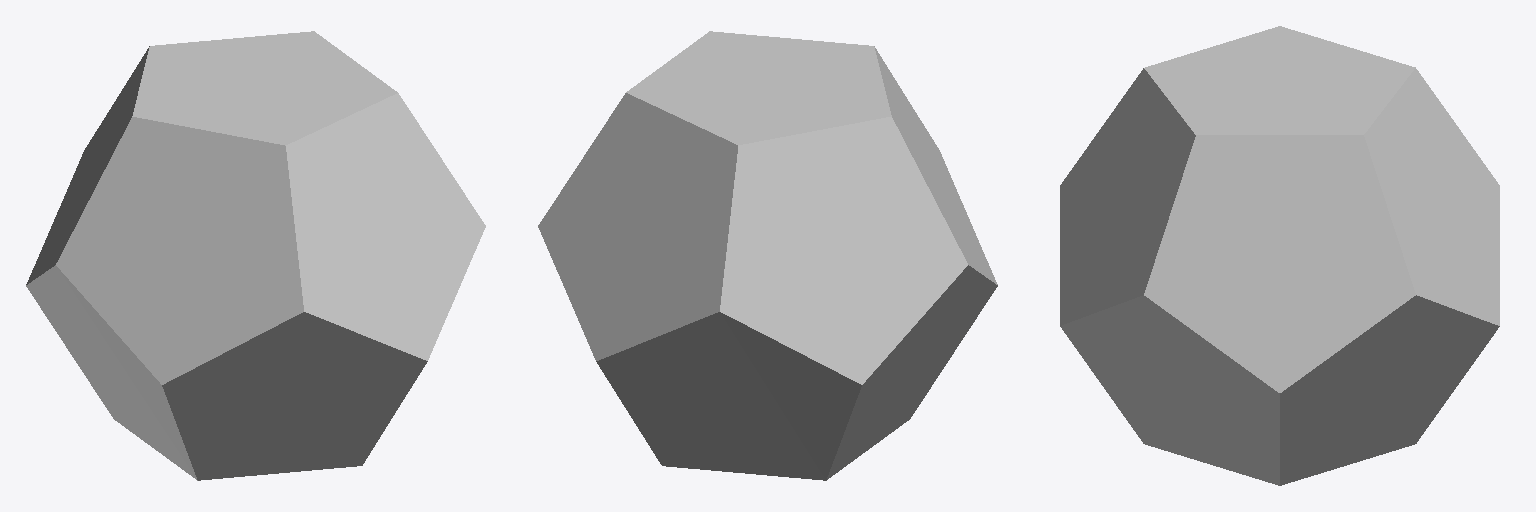
Rendered from dode.obj.
3 renders of one model, left to right at view 1: azimuth 30°, elevation 25°; view 2: azimuth 150°, elevation 25°; view 3: azimuth 270°, elevation 25°, orthographic.
Parts seen in each view (by area): view 1: Icosphere; view 2: Icosphere; view 3: Icosphere.
Part boxes in pixels (left/top/right/bottom): Icosphere: left=26, top=31, right=485, bottom=480; Icosphere: left=538, top=31, right=997, bottom=480; Icosphere: left=1060, top=26, right=1499, bottom=485.
Bounding box in the file's own units: 1.56 × 1.26 × 1.49.